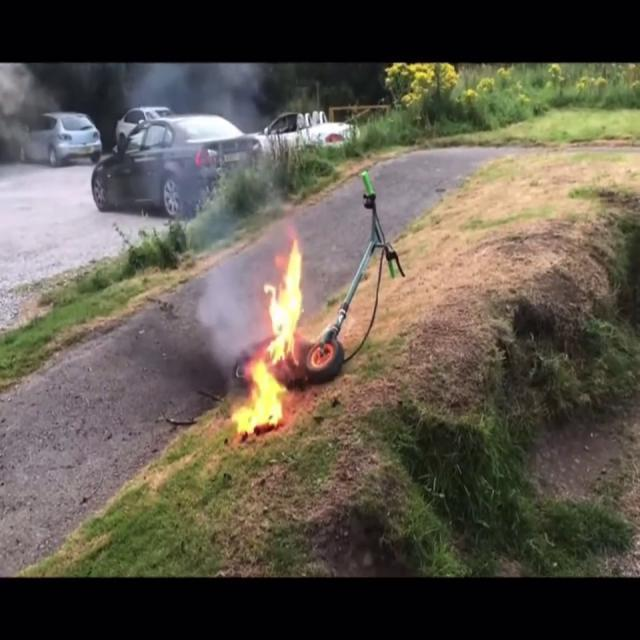Fire: (228, 240, 316, 437)
Smoke: (178, 126, 294, 350)
